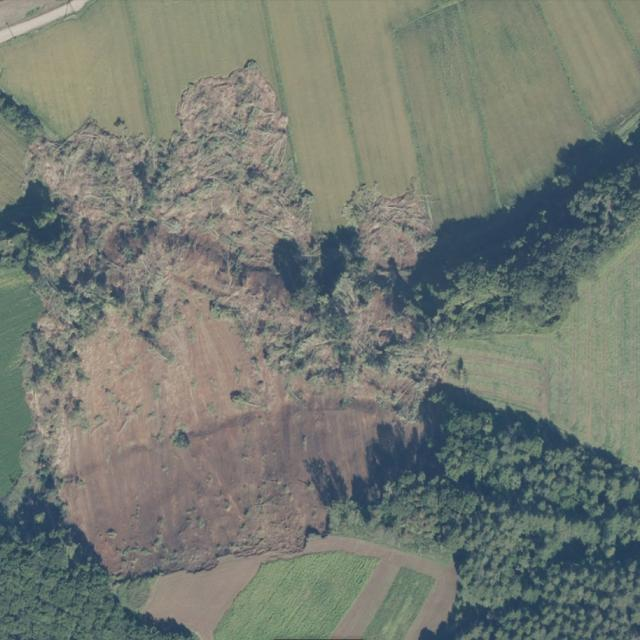landslide: (0, 62, 438, 576)
